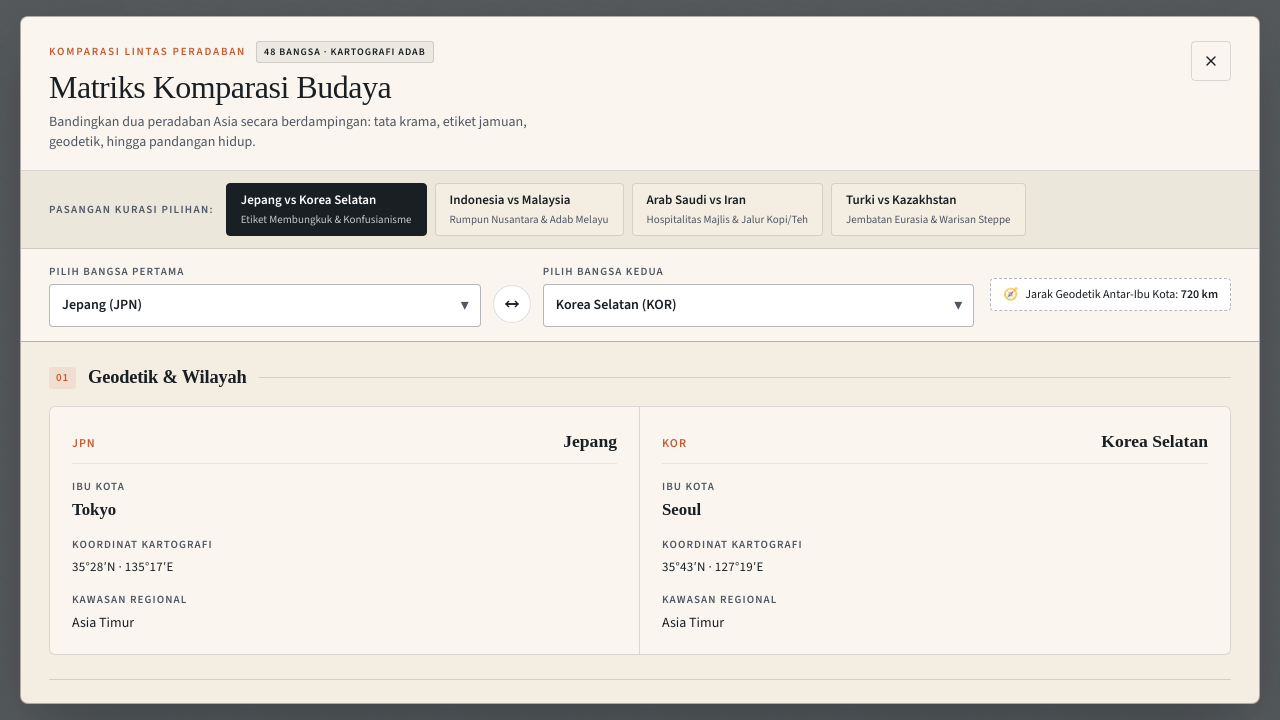
Scenario: CulturalComparisonMatrix Component › swaps countries when swap button is clicked
The width and height of the screenshot is (1280, 720).
Expected: the dropdown labelled "Pilih Bangsa Pertama" shows "Jepang (JPN)", [49,284,481,327]
Expected: the dropdown labelled "Pilih Bangsa Kedua" shows "Korea Selatan (KOR)", [543,284,974,327]
Click the button named "Tukar posisi kedua bangsa". click: (512,304)
box: [493,285,531,323]
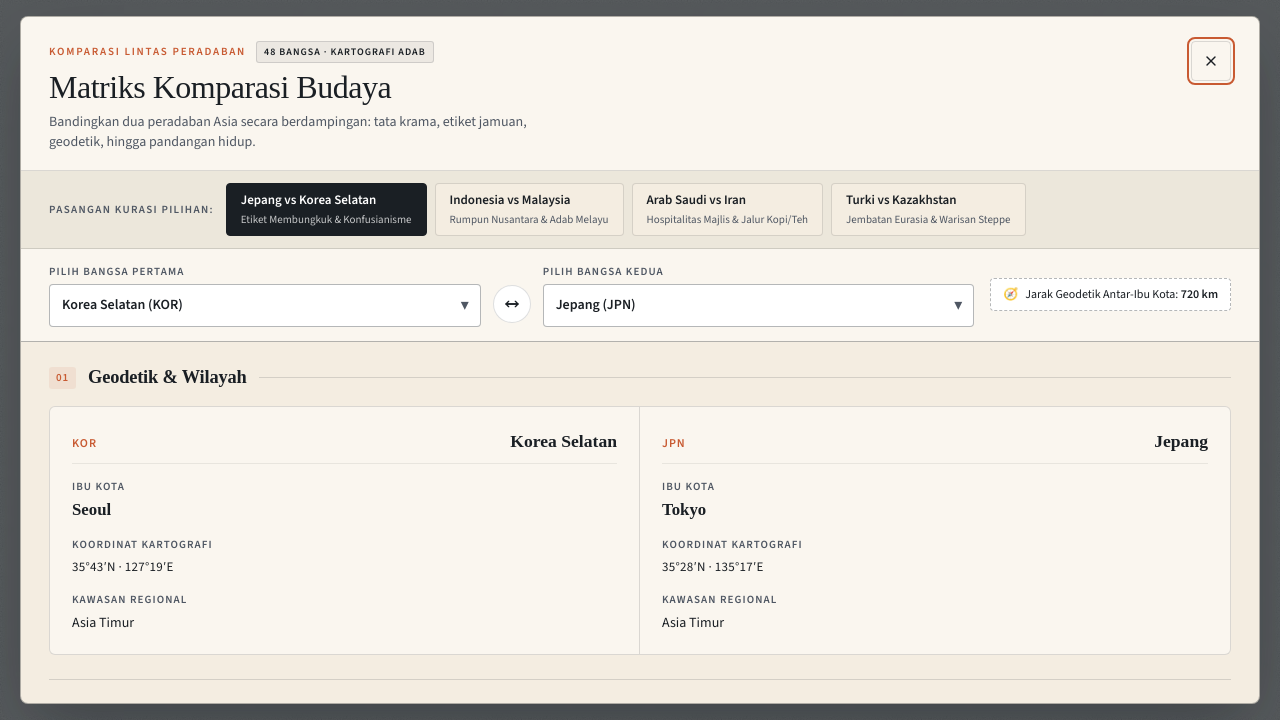
Now the dropdown labelled "Pilih Bangsa Pertama" shows "Korea Selatan (KOR)", box [49,284,481,327]
Now the dropdown labelled "Pilih Bangsa Kedua" shows "Jepang (JPN)", box [543,284,974,327]
